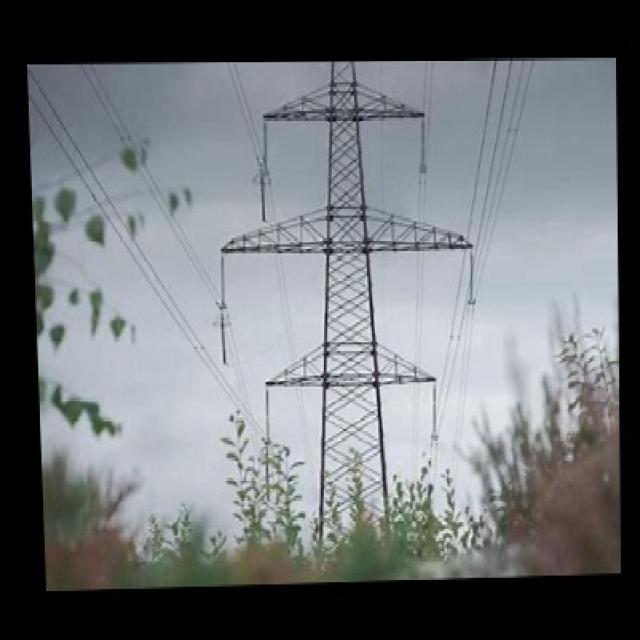utility poles: (225, 332, 461, 577)
